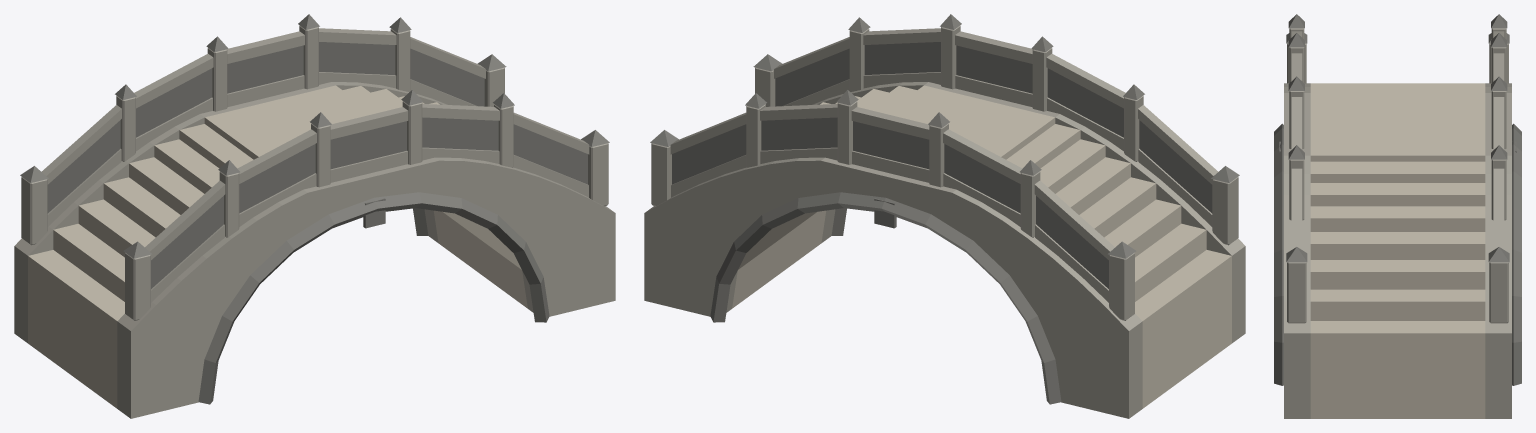
The model's file is bridge_stone_arch.glb.
3 views of the same model, side by side, from view 1: azimuth 30°, elevation 25°; view 2: azimuth 150°, elevation 25°; view 3: azimuth 270°, elevation 25° (orthographic). The views are drawn at different scales.
Parts seen in each view (by area): view 1: bridge_stone_arch; view 2: bridge_stone_arch; view 3: bridge_stone_arch.
Boxes of the visible parts, x1,y1,x2,y2 form: bridge_stone_arch: [14, 14, 615, 418]; bridge_stone_arch: [644, 14, 1245, 418]; bridge_stone_arch: [1274, 14, 1521, 418].
Bounding box in the file's own units: 7.2 × 3.63 × 3.26.
